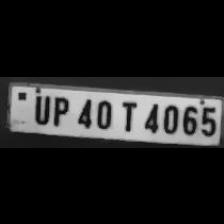0: (92, 95, 114, 129), (159, 100, 179, 134)
4: (72, 94, 94, 128), (139, 98, 161, 132)
5: (197, 100, 217, 136)
6: (179, 101, 197, 135)
P: (48, 92, 70, 126)
T: (116, 96, 138, 132)
U: (29, 91, 51, 125)
